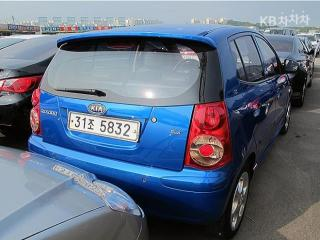1: (81, 117, 87, 130)
2: (122, 123, 131, 138)
3: (114, 122, 123, 136), (74, 115, 82, 128)
5: (98, 120, 107, 133)
8: (107, 121, 115, 134)
조: (87, 118, 95, 130)
